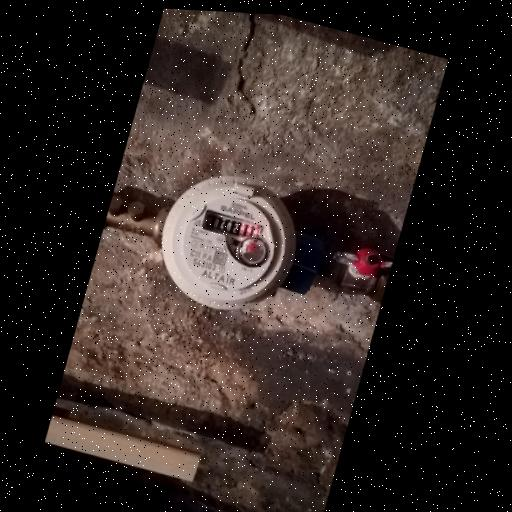0: (204, 213, 215, 228), (211, 215, 222, 230), (223, 218, 234, 233)
2: (230, 220, 242, 235)
4: (218, 217, 228, 231)
8: (237, 222, 248, 237), (251, 224, 261, 237)
9: (244, 224, 255, 238)
border_water_meter_number: (200, 209, 266, 245)
